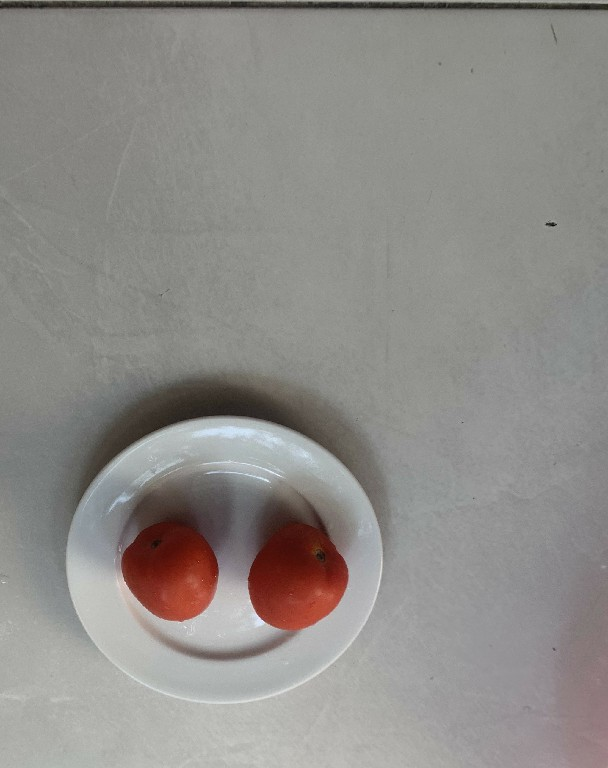OK: (247, 516, 347, 636), (119, 519, 223, 630)
